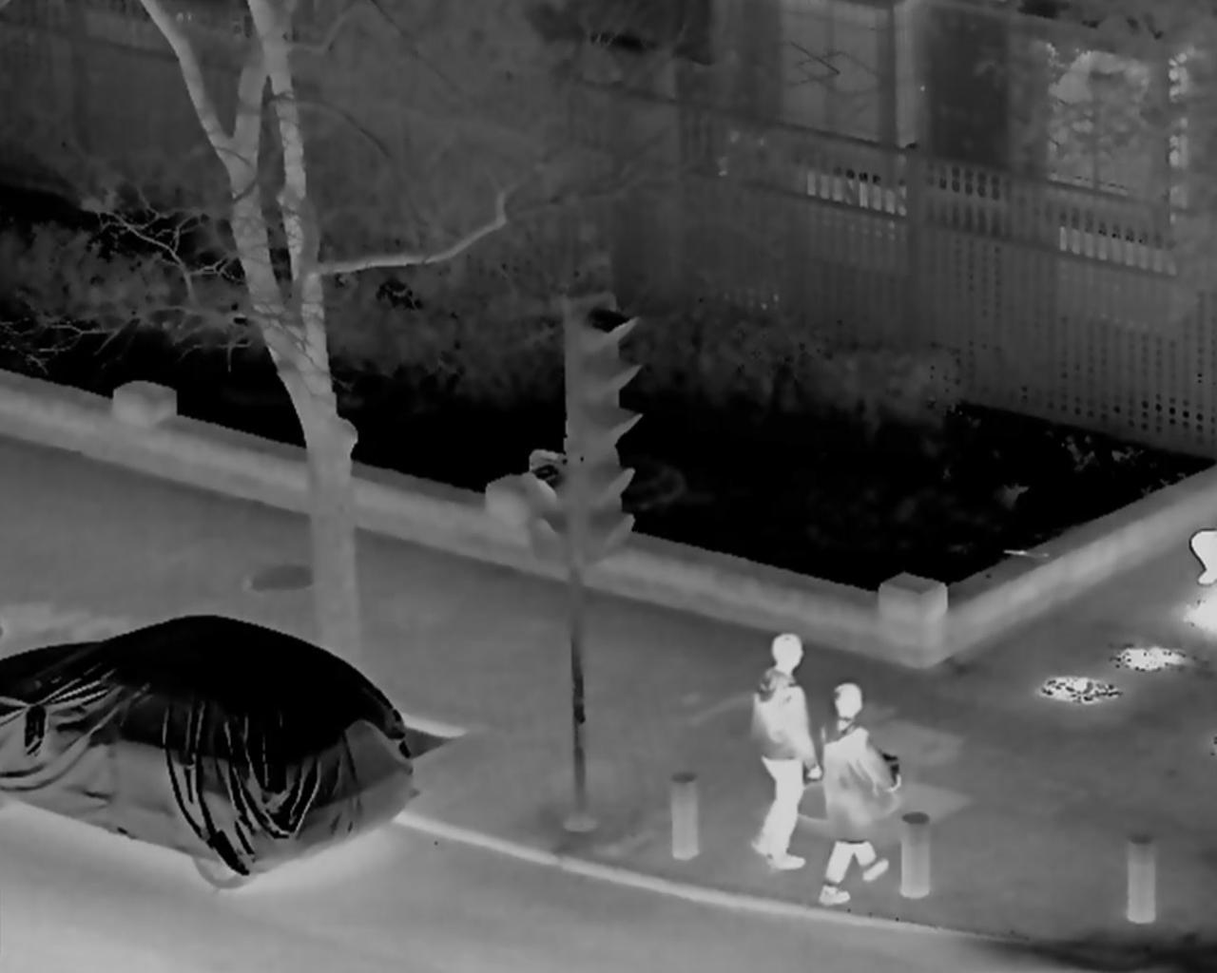person: (814, 684, 897, 904), (754, 630, 819, 874)
